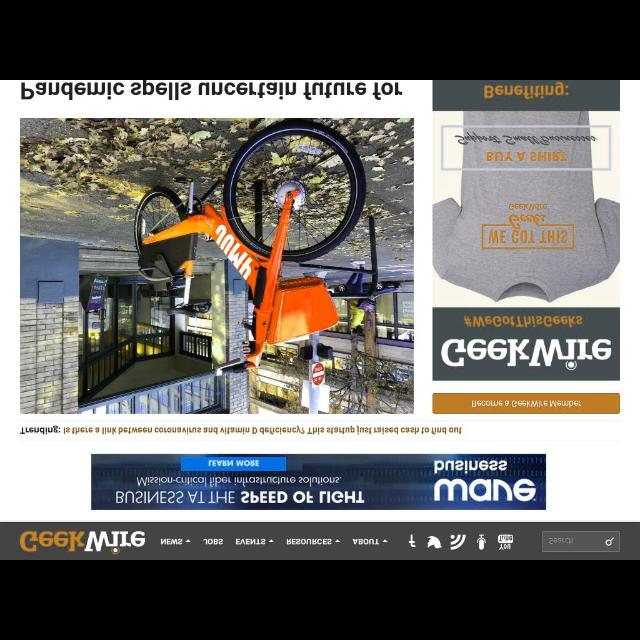icon: (606, 536, 614, 546), (268, 539, 274, 543), (334, 539, 340, 543), (186, 539, 190, 543), (382, 540, 388, 542)
iframe: (92, 454, 546, 510)
image: (19, 119, 414, 414), (433, 111, 619, 306), (18, 529, 146, 555), (450, 534, 466, 550), (498, 534, 514, 550), (428, 536, 442, 548), (476, 534, 486, 550), (408, 534, 416, 548)
input: (542, 532, 620, 552)
multitab: (158, 536, 388, 546)
spinner: (286, 538, 340, 544), (235, 537, 273, 545), (352, 538, 388, 546), (160, 538, 190, 546)
text: (21, 80, 403, 100), (441, 338, 613, 370), (20, 426, 462, 434), (484, 81, 568, 99), (463, 316, 583, 328), (472, 400, 582, 408), (286, 538, 332, 544), (235, 538, 265, 544), (161, 538, 183, 546), (352, 538, 380, 544), (203, 538, 223, 546), (550, 538, 574, 544)
textbutton: (432, 392, 620, 413)
